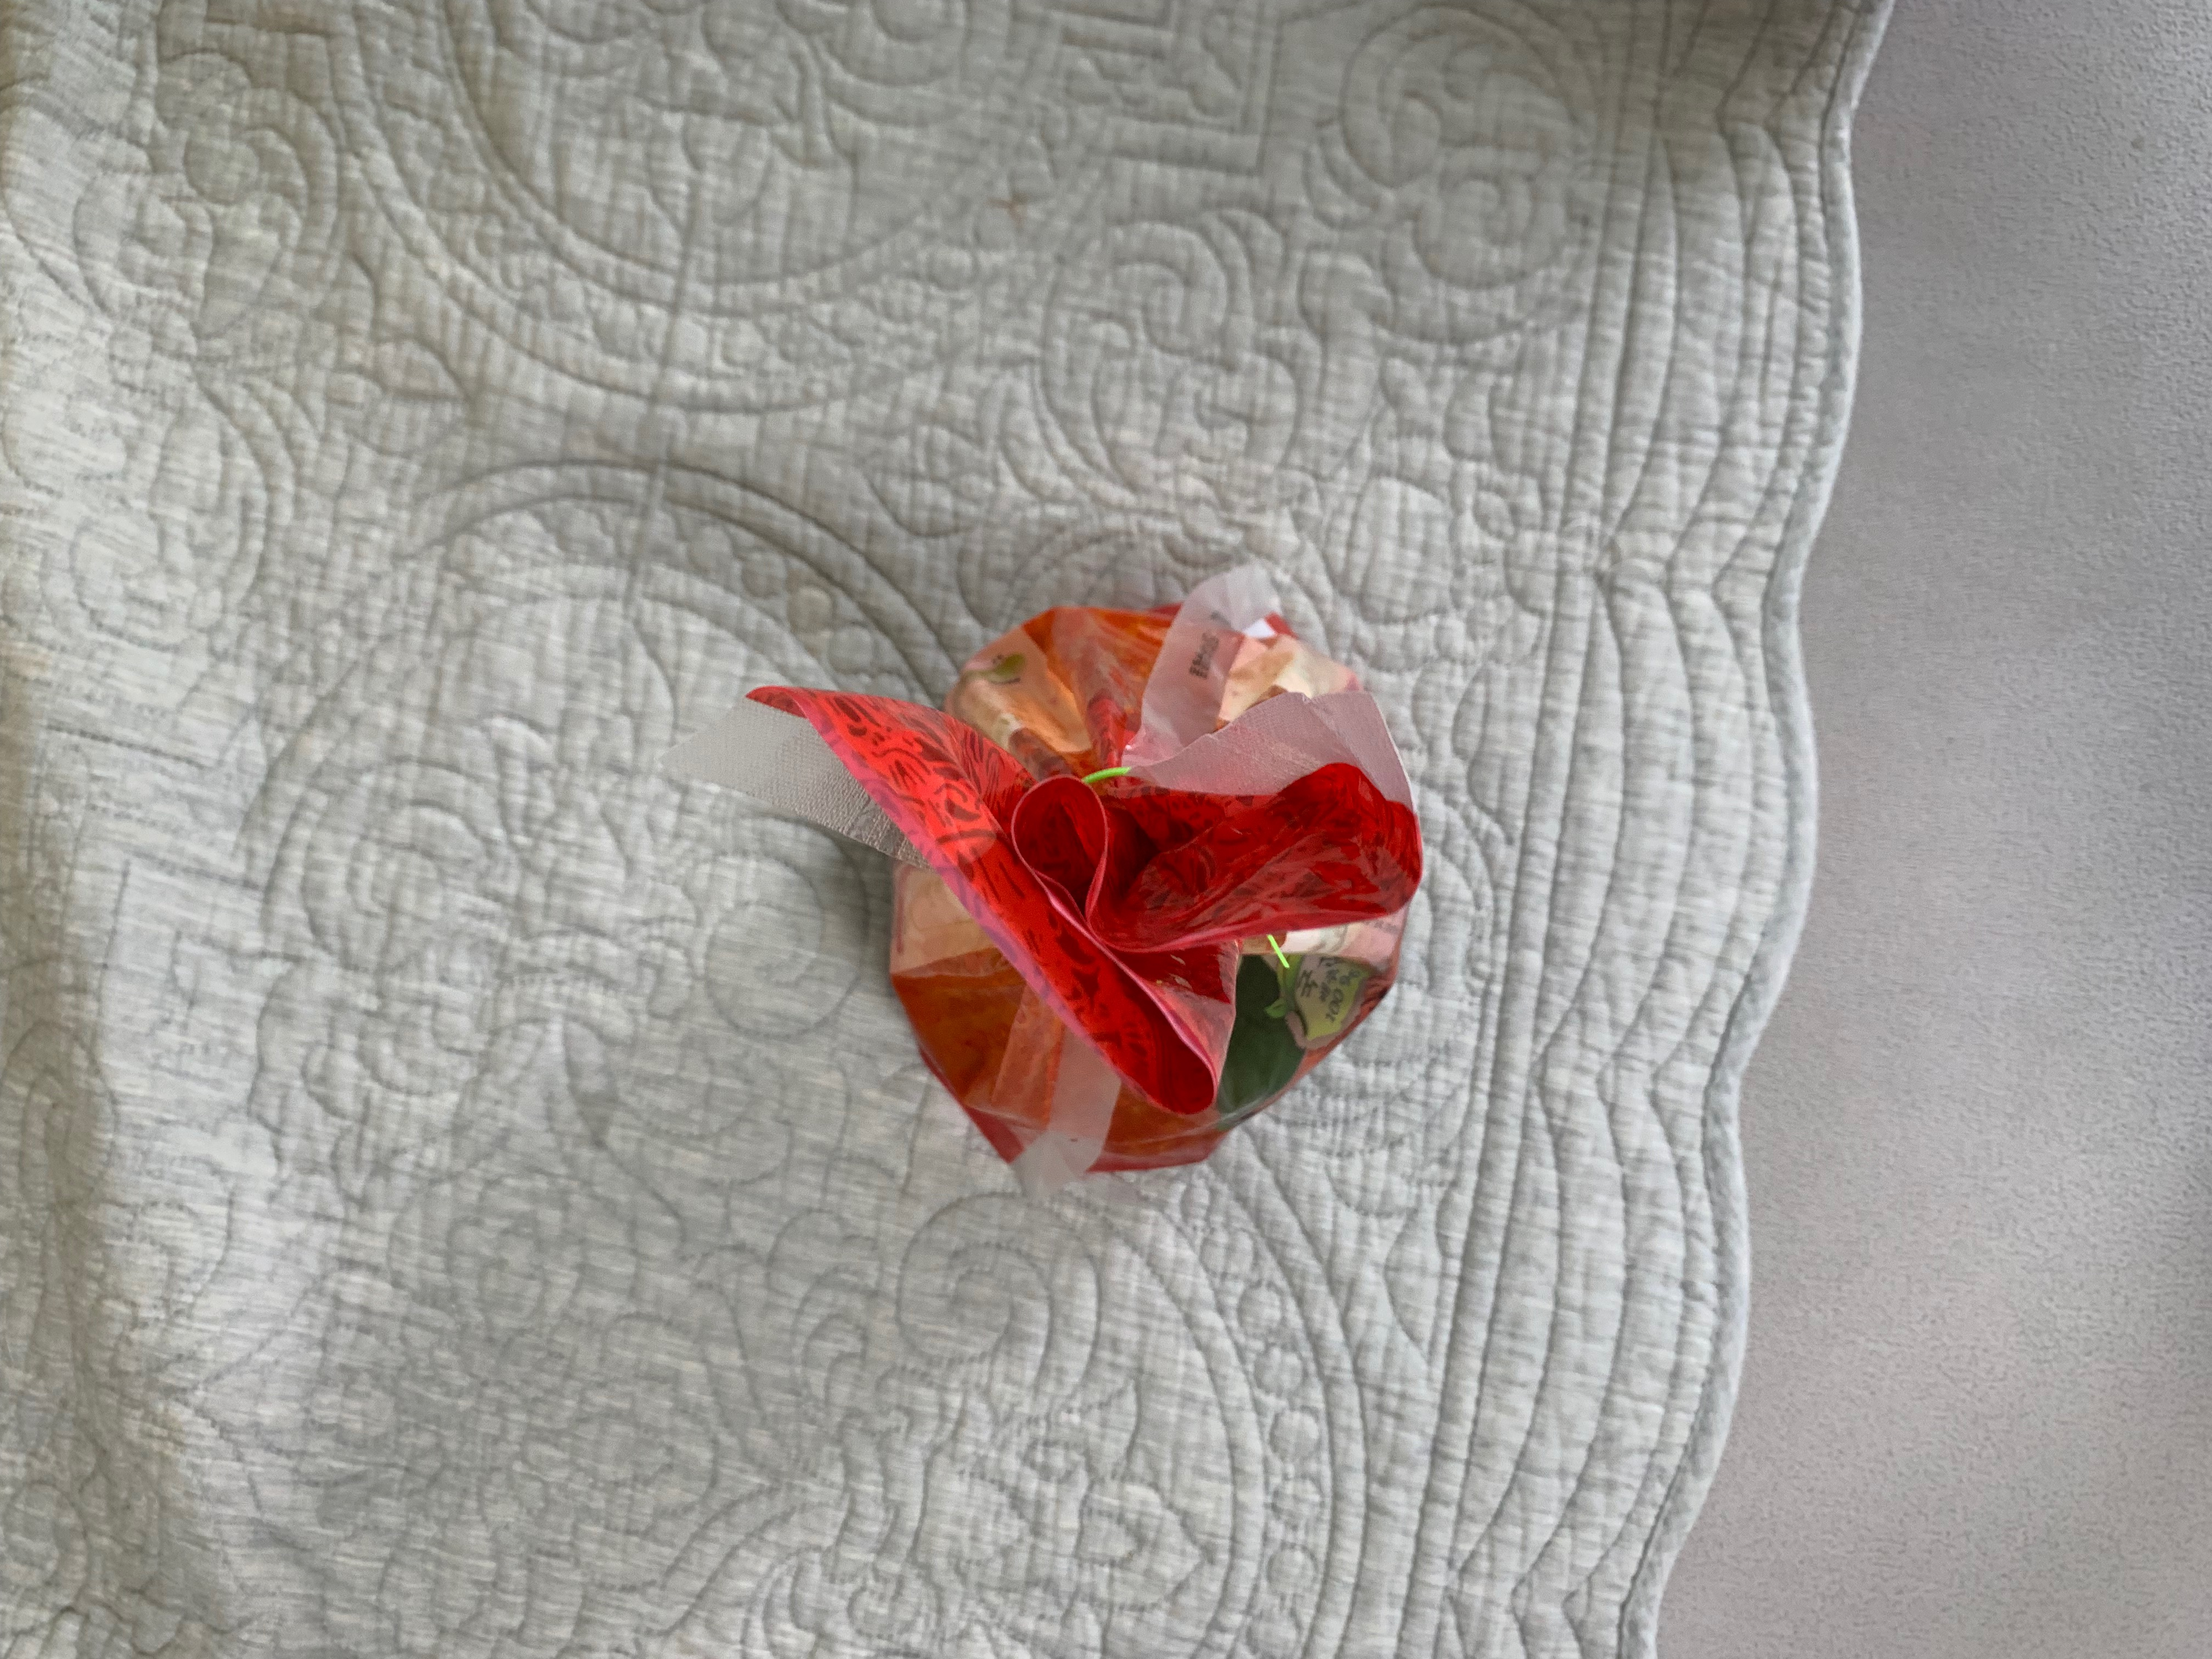kimchi: (752, 606, 1418, 1180)
